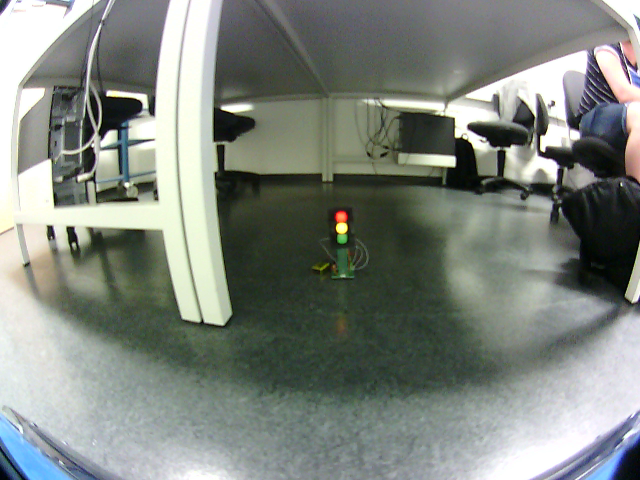red yellow trafficlight: (332, 208, 349, 248)
